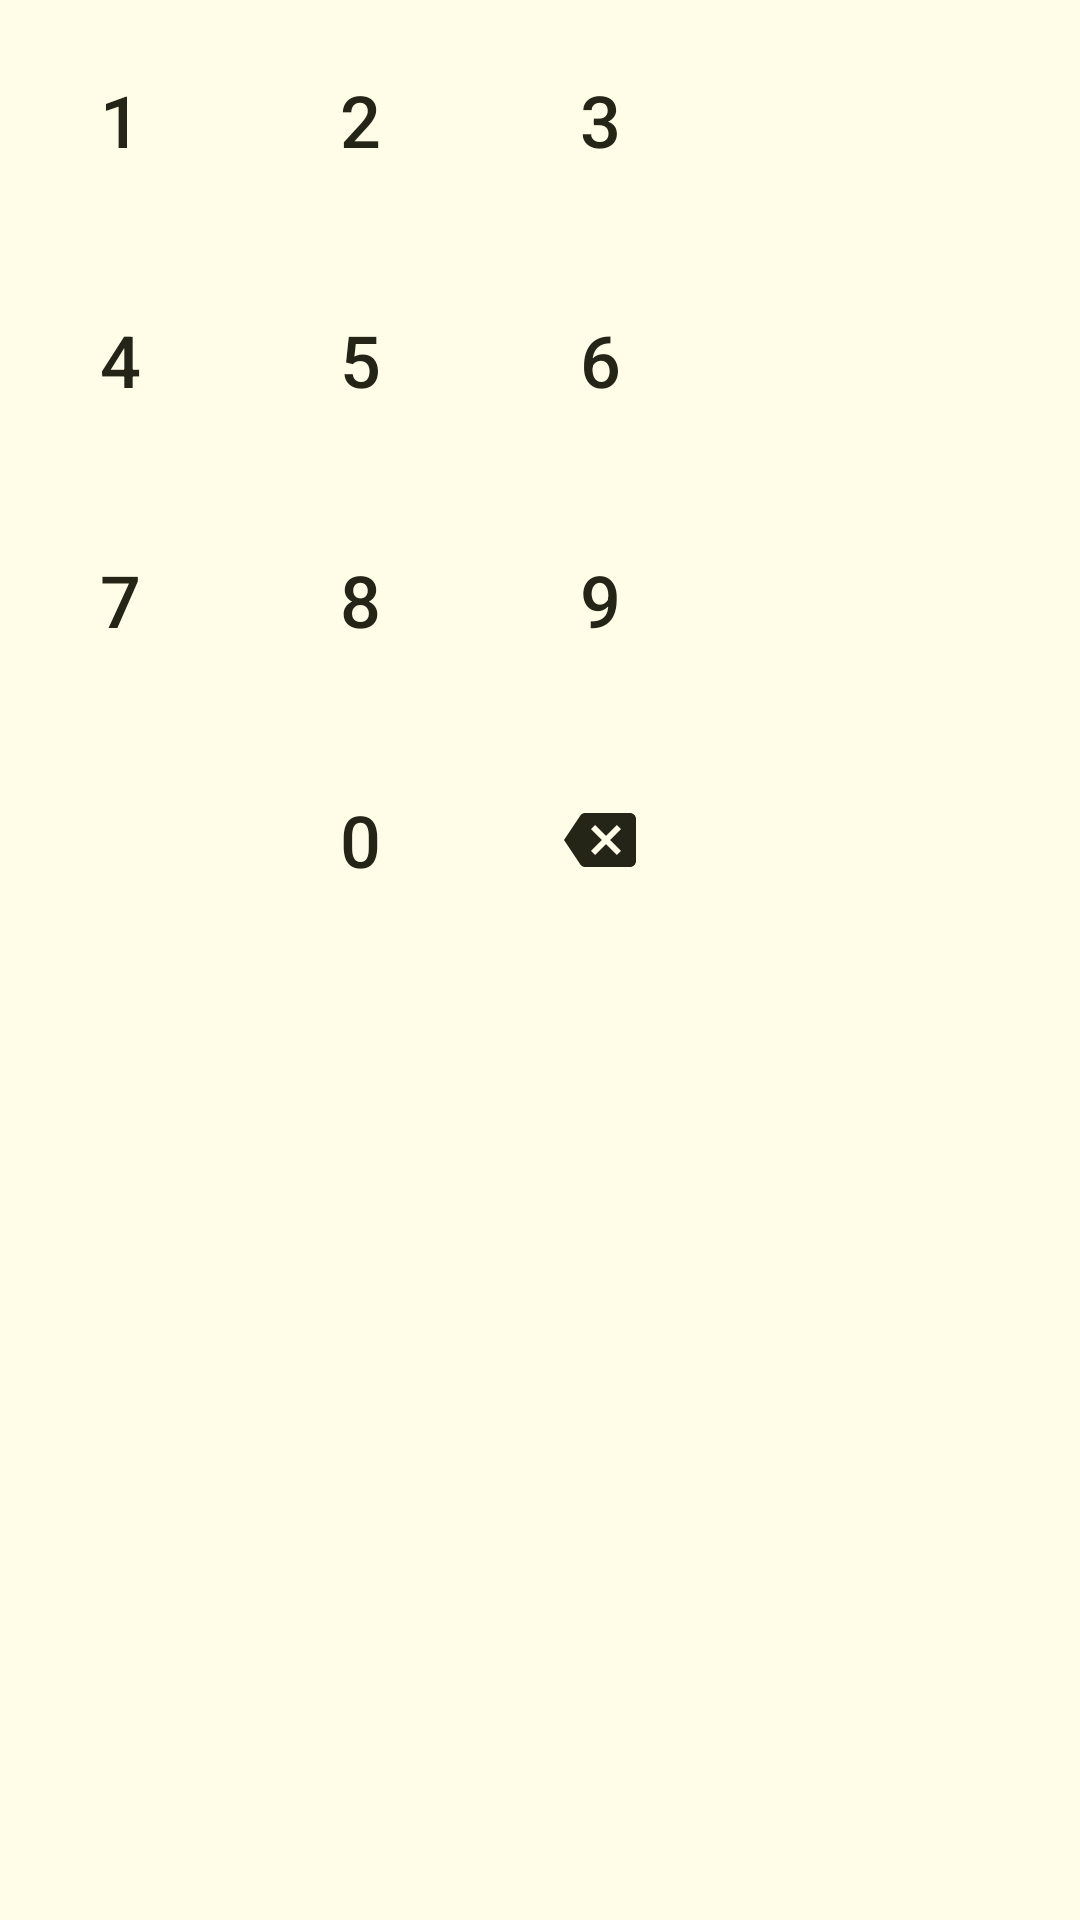

Screen size 1080w x 1920h. Icon name, then its box in pixels as (x1, y1, x2, y2):
Back: (564, 813, 636, 867)
